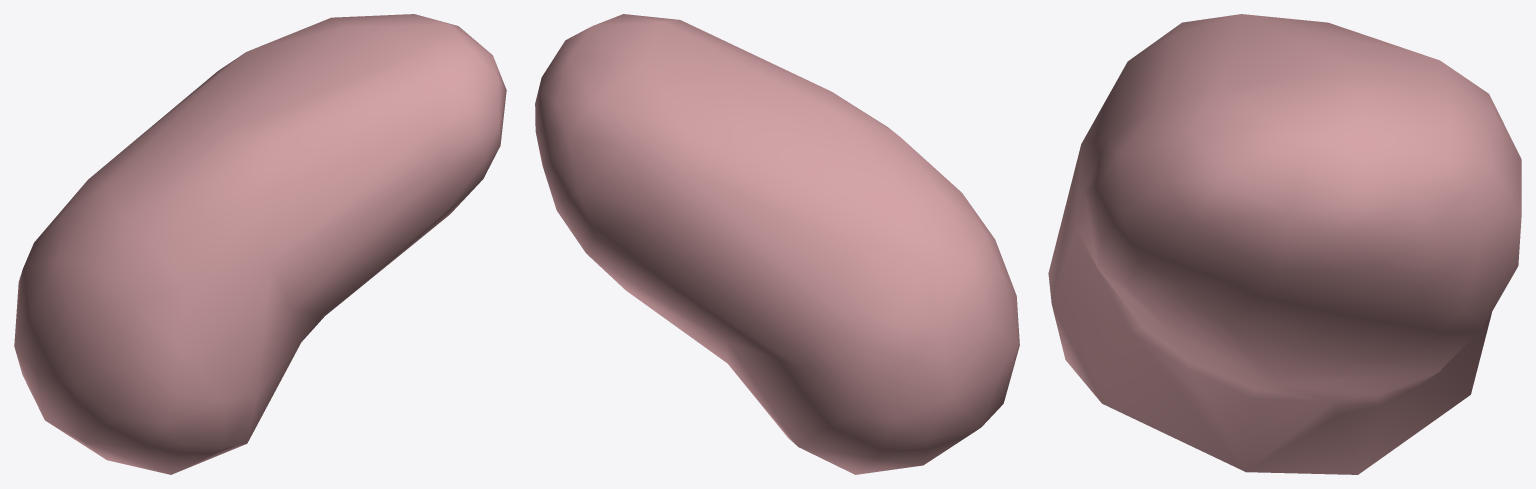
File: fma16983_fj2614.glb
3 renders of one model, left to right at view 1: azimuth 30°, elevation 25°; view 2: azimuth 150°, elevation 25°; view 3: azimuth 270°, elevation 25°, orthographic. The views are drawn at different scales.
Visible parts, largest first — view 1: FMA16983_FJ2614; view 2: FMA16983_FJ2614; view 3: FMA16983_FJ2614.
Boxes of the visible parts, bbox=[...] form: FMA16983_FJ2614: bbox=[14, 14, 506, 474]; FMA16983_FJ2614: bbox=[535, 14, 1019, 474]; FMA16983_FJ2614: bbox=[1048, 14, 1521, 474].
Size of the model in its own units: 0.0414 by 0.032 by 0.0252.
